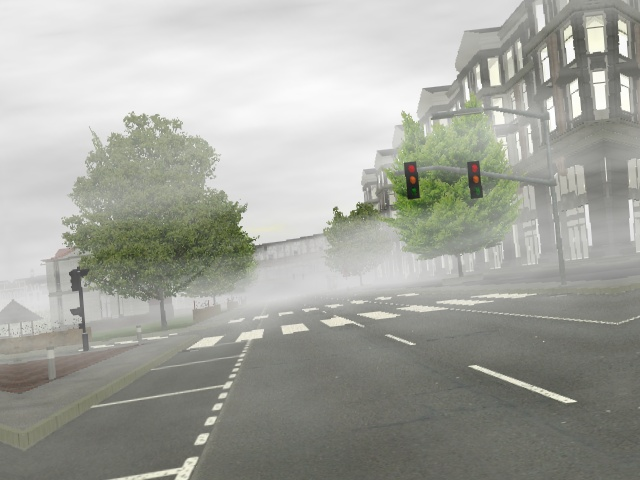Traffic lights: (396, 151, 427, 204), (462, 156, 491, 200)
